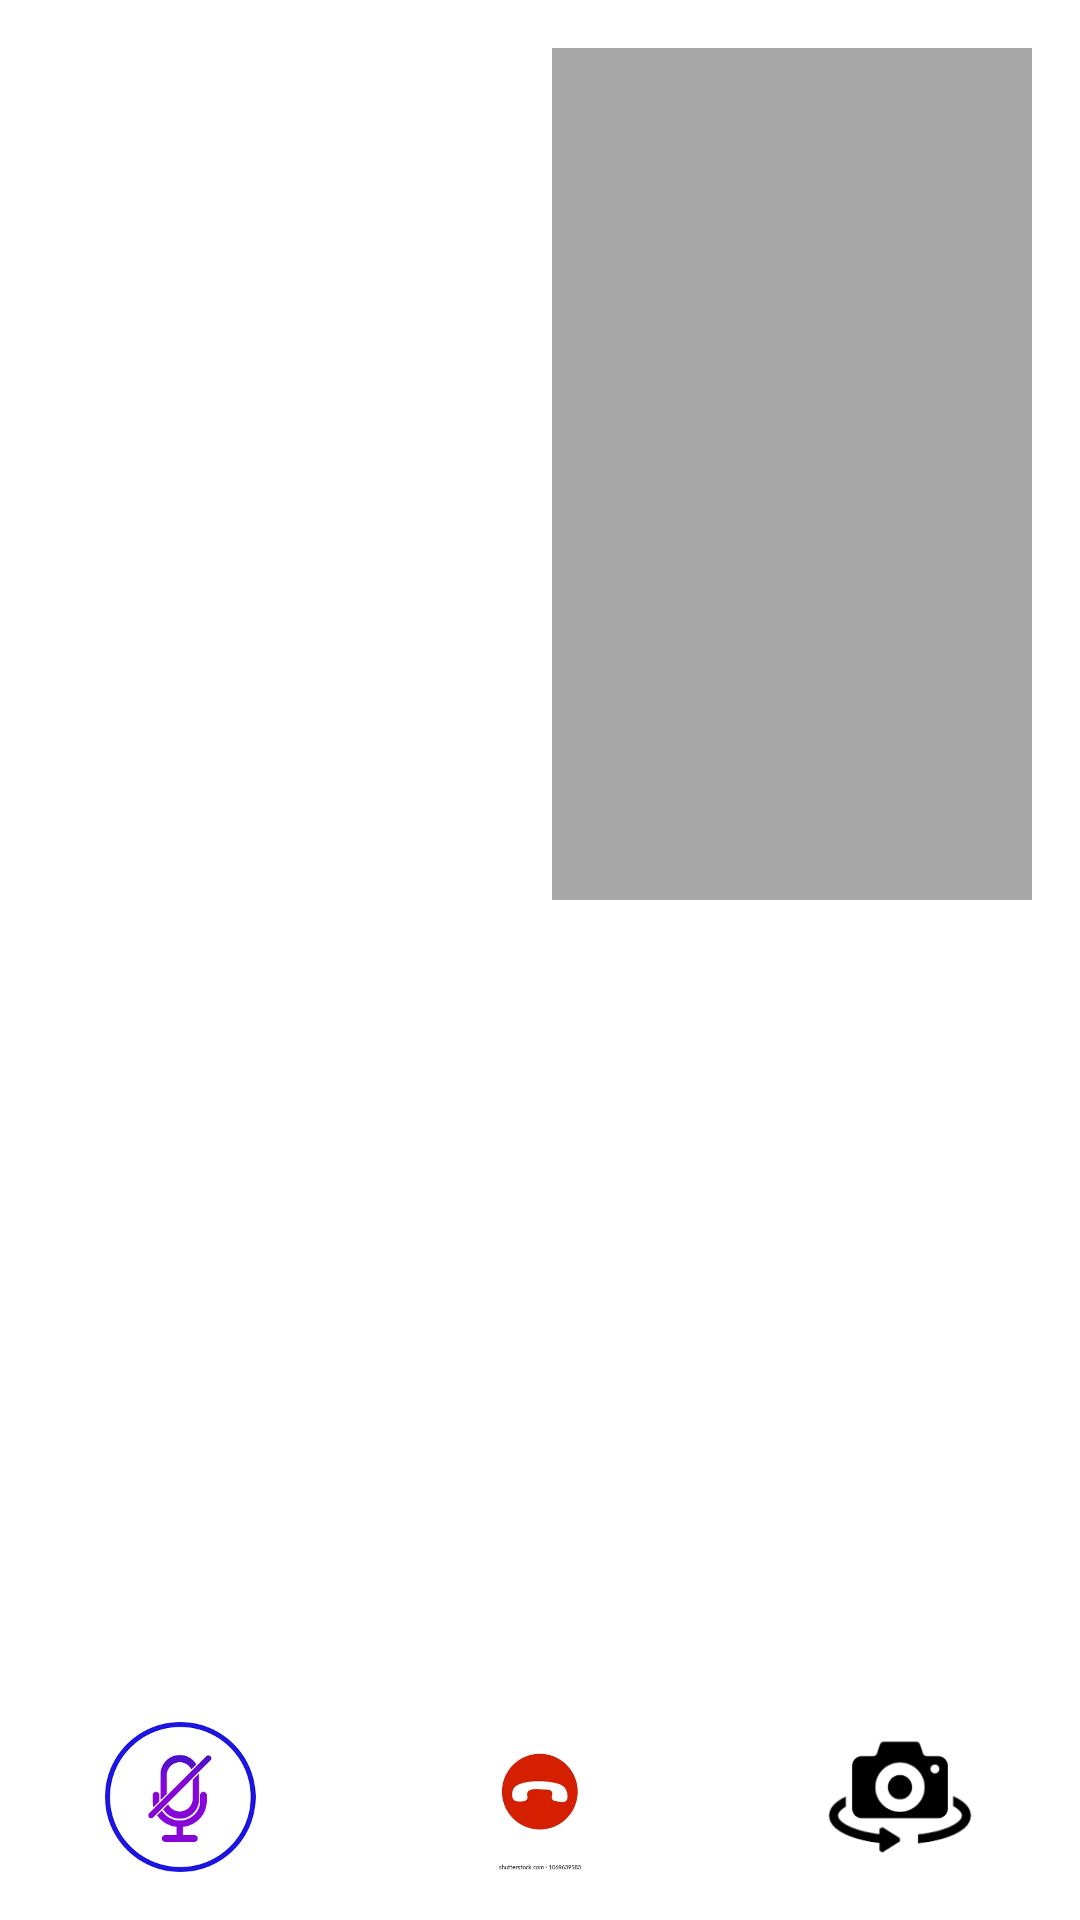

Icon click points for this 1080 x 1920 phone screenshot, format (x=x, y=y):
mute: (x=180, y=1797)
rotatecam: (x=900, y=1797)
